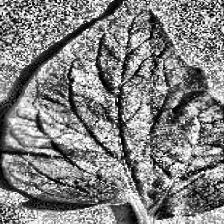spider mites: (0, 0, 224, 216)
